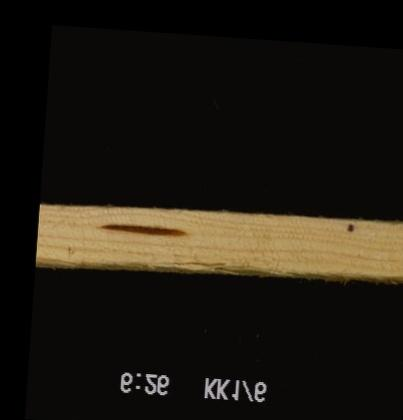split: (154, 258, 227, 269)
